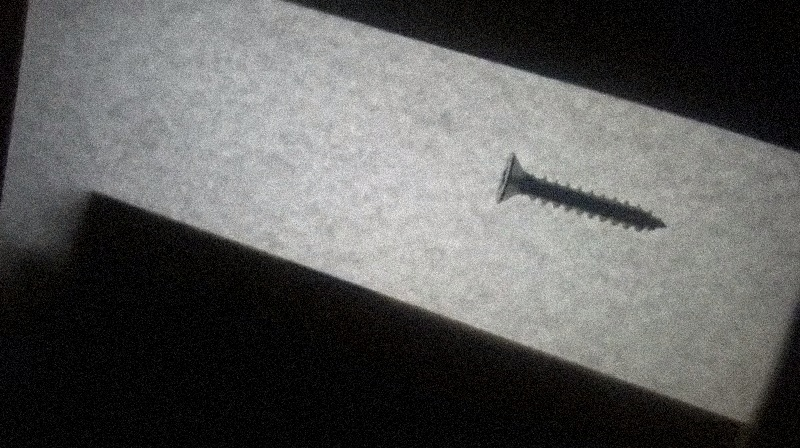S001: (491, 147, 673, 234)
